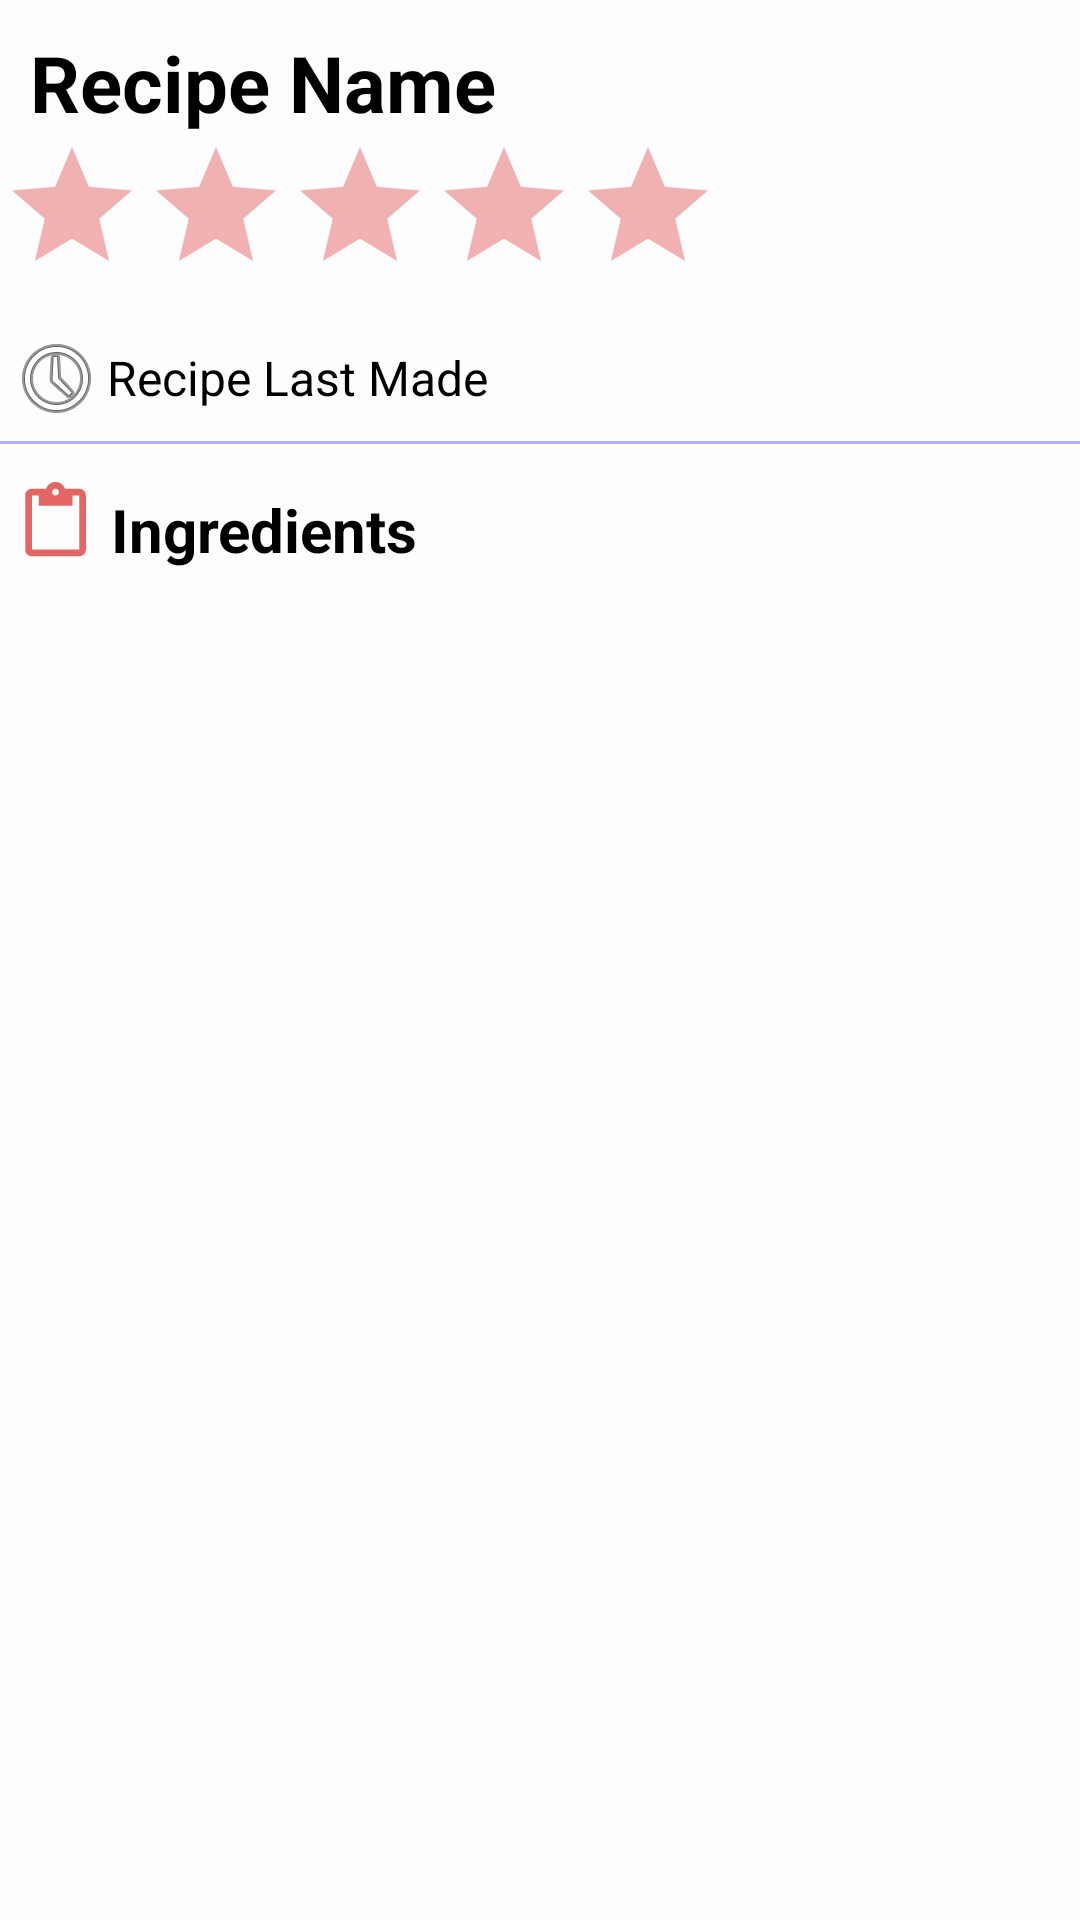

Screen size 1080px x 1920px. Icon name, then its box in pixels as bbox(x1, y1, x2, y2):
recent history: bbox(22, 344, 91, 413)
